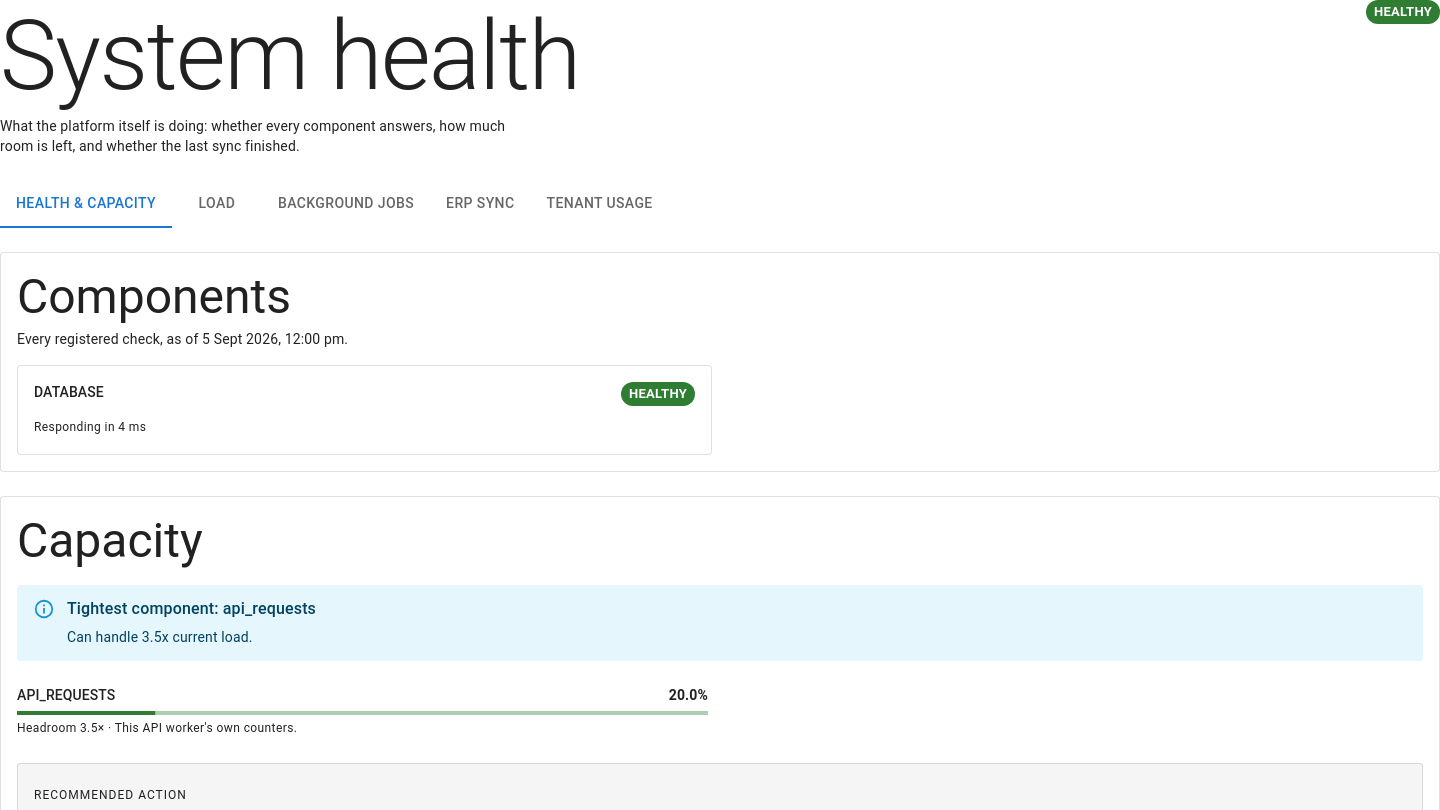
Test: a list the server truncated › says how much of it is on screen
Click the tab "Background jobs" at (346, 204), box top-left (262, 180), bottom-right (430, 228)
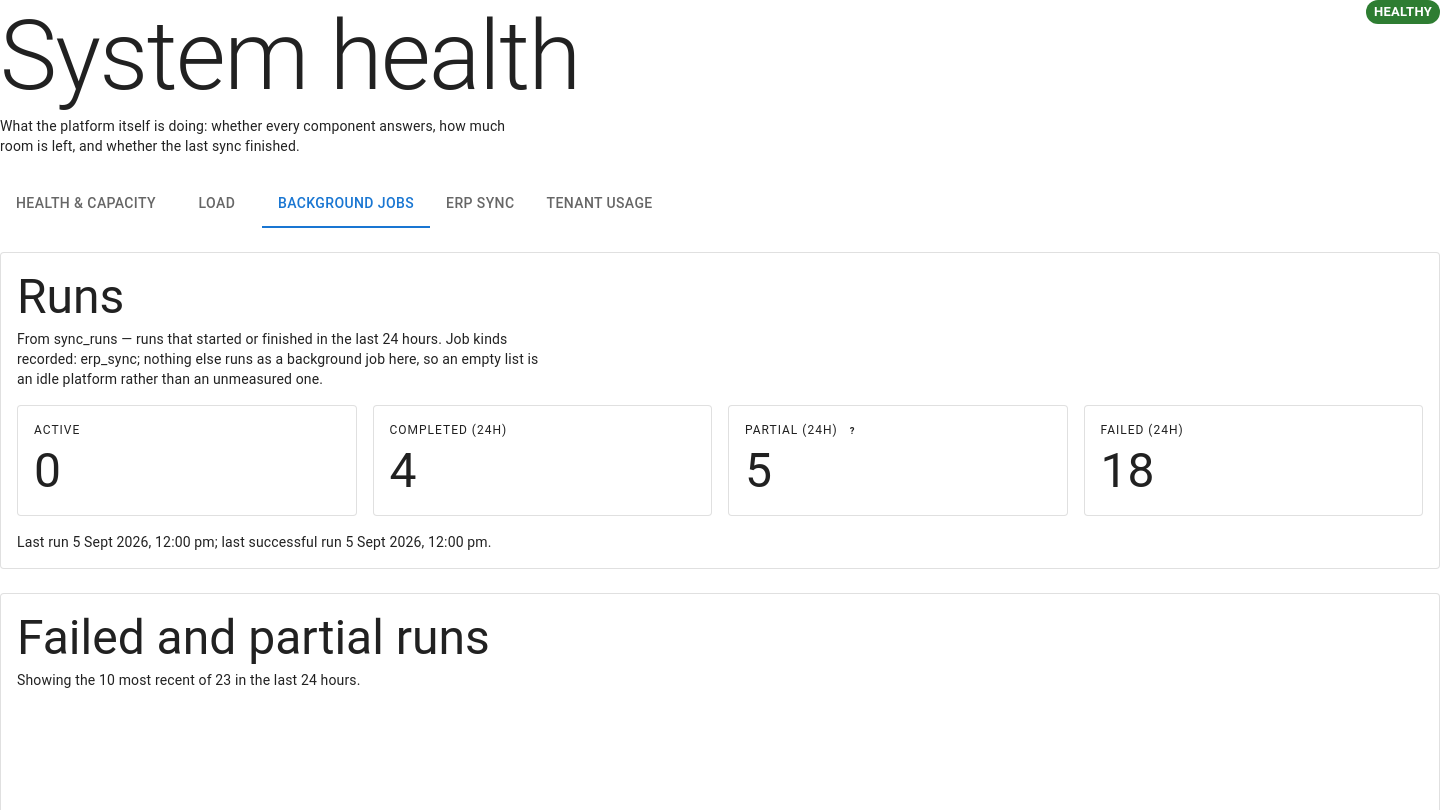
Result: the text "Showing the 10 most recent of 23 in the last 24 hours." is shown at top-left (17, 672), bottom-right (360, 688)
